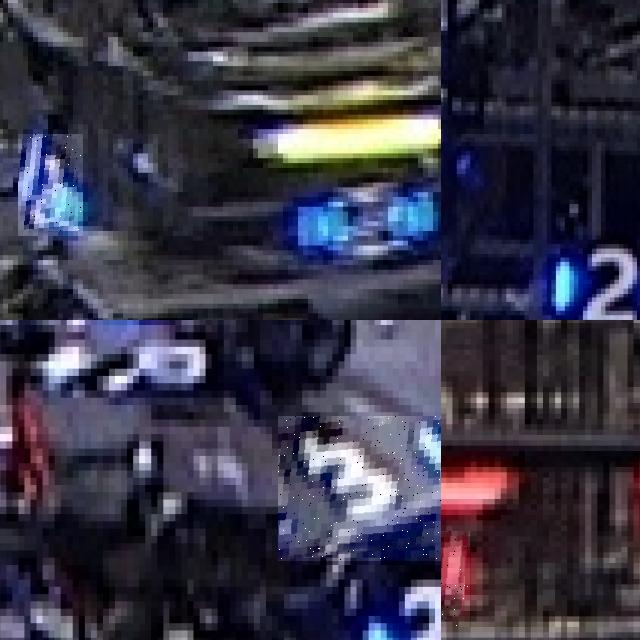B2: (542, 230, 640, 320), (18, 134, 83, 236)
B3: (278, 415, 441, 561), (335, 550, 441, 640)
R2: (441, 531, 470, 627)
